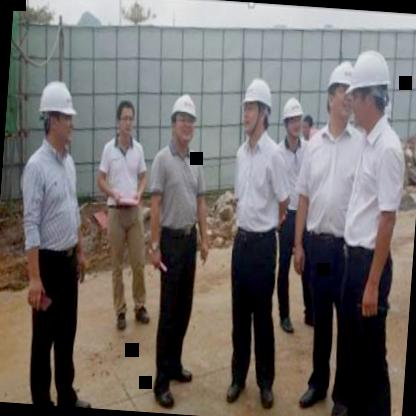head: (112, 98, 138, 144)
helmet: (344, 46, 394, 134), (35, 77, 80, 151), (321, 56, 356, 128), (238, 72, 274, 140), (166, 90, 201, 148), (277, 92, 304, 143)
